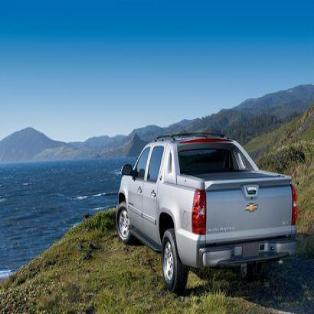Auto: (115, 131, 300, 293)
